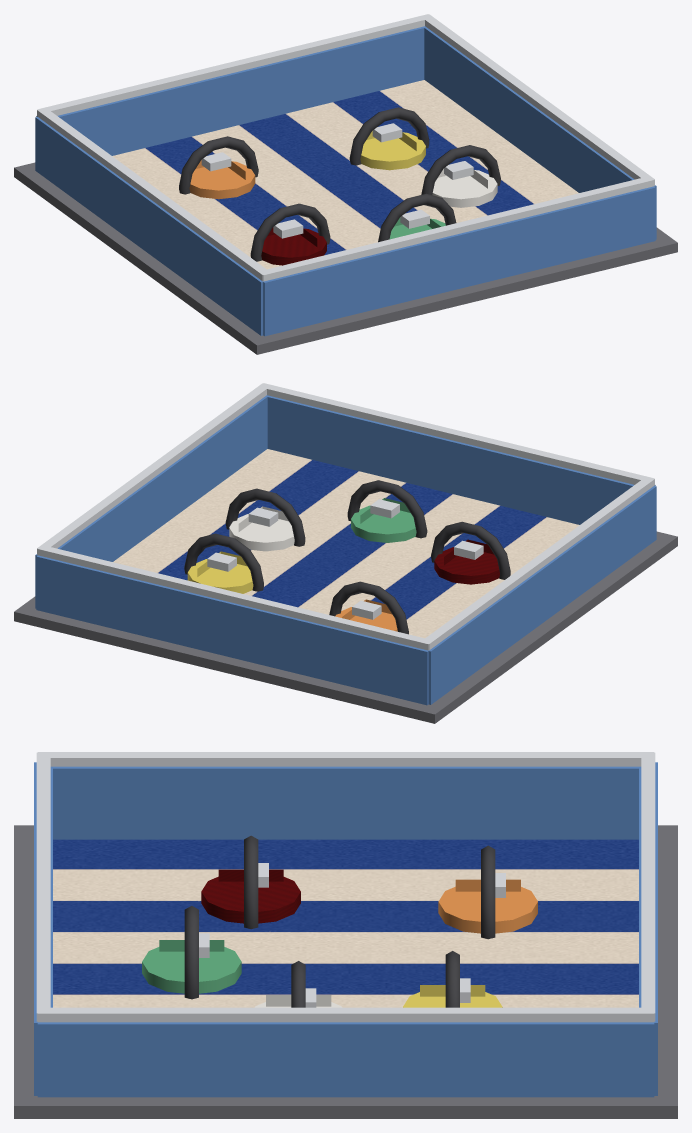
Rendered from ride_bumper.glb.
3 renders of one model, top to bottom at view 1: azimuth 30°, elevation 25°; view 2: azimuth 150°, elevation 25°; view 3: azimuth 270°, elevation 25°, orthographic. The views are drawn at different scales.
Parts seen in each view (by area): view 1: base, car_03, car_01, car_00, car_04, car_02; view 2: base, car_02, car_00, car_04, car_01, car_03; view 3: base, car_03, car_00, car_02, car_01, car_04.
Part boxes in pixels (x1,y1,x2,y2): base: [14, 14, 677, 354]; car_03: [179, 136, 258, 199]; car_01: [349, 107, 429, 170]; car_00: [250, 203, 330, 265]; car_04: [421, 145, 500, 207]; car_02: [378, 193, 456, 242]; base: [14, 383, 677, 723]; car_02: [347, 480, 427, 542]; car_00: [431, 521, 510, 584]; car_04: [225, 488, 305, 551]; car_01: [184, 533, 263, 593]; car_03: [329, 581, 408, 634]; base: [14, 752, 677, 1118]; car_03: [438, 845, 537, 939]; car_00: [201, 835, 300, 929]; car_02: [142, 906, 241, 999]; car_01: [403, 951, 502, 1007]; car_04: [255, 961, 342, 1007].
Size of the model in its own units: 5.6 by 1.21 by 5.6.
10 materials, 2 textured.
